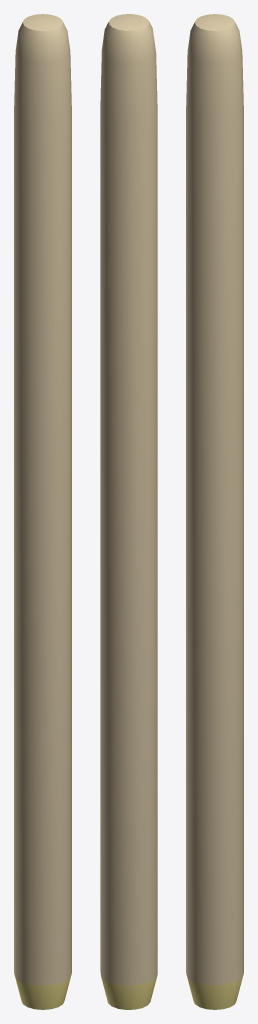
Rendered from SM_C26_Stump_Single.fbx.
3 views of the same model, side by side, from view 1: azimuth 90°, elevation 25°; view 2: azimuth 150°, elevation 25°; view 3: azimuth 270°, elevation 25° (orthographic).
Visible parts, largest first — view 1: SM_C26_Stump_Single; view 2: SM_C26_Stump_Single; view 3: SM_C26_Stump_Single.
Part boxes in pixels (x1,y1,x2,y2): SM_C26_Stump_Single: (14, 14, 71, 1009); SM_C26_Stump_Single: (100, 14, 157, 1009); SM_C26_Stump_Single: (186, 14, 243, 1009).
Size of the model in its own units: 3.8 by 3.8 by 71.3.
